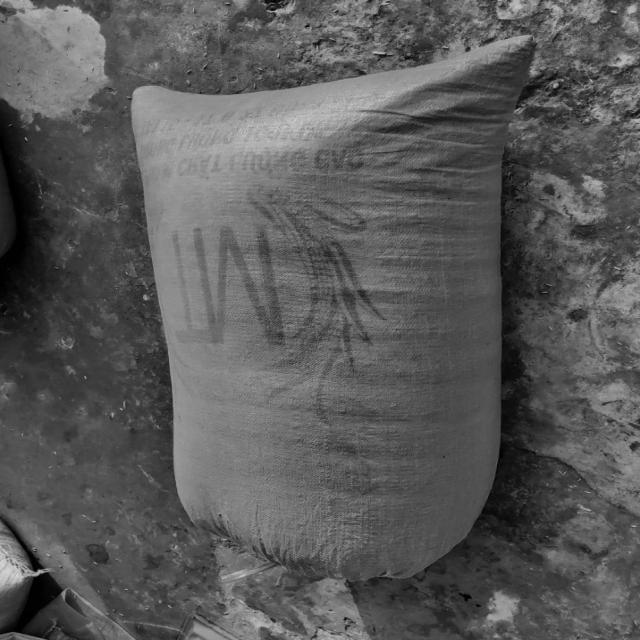gunny_bag: (131, 35, 535, 581)
